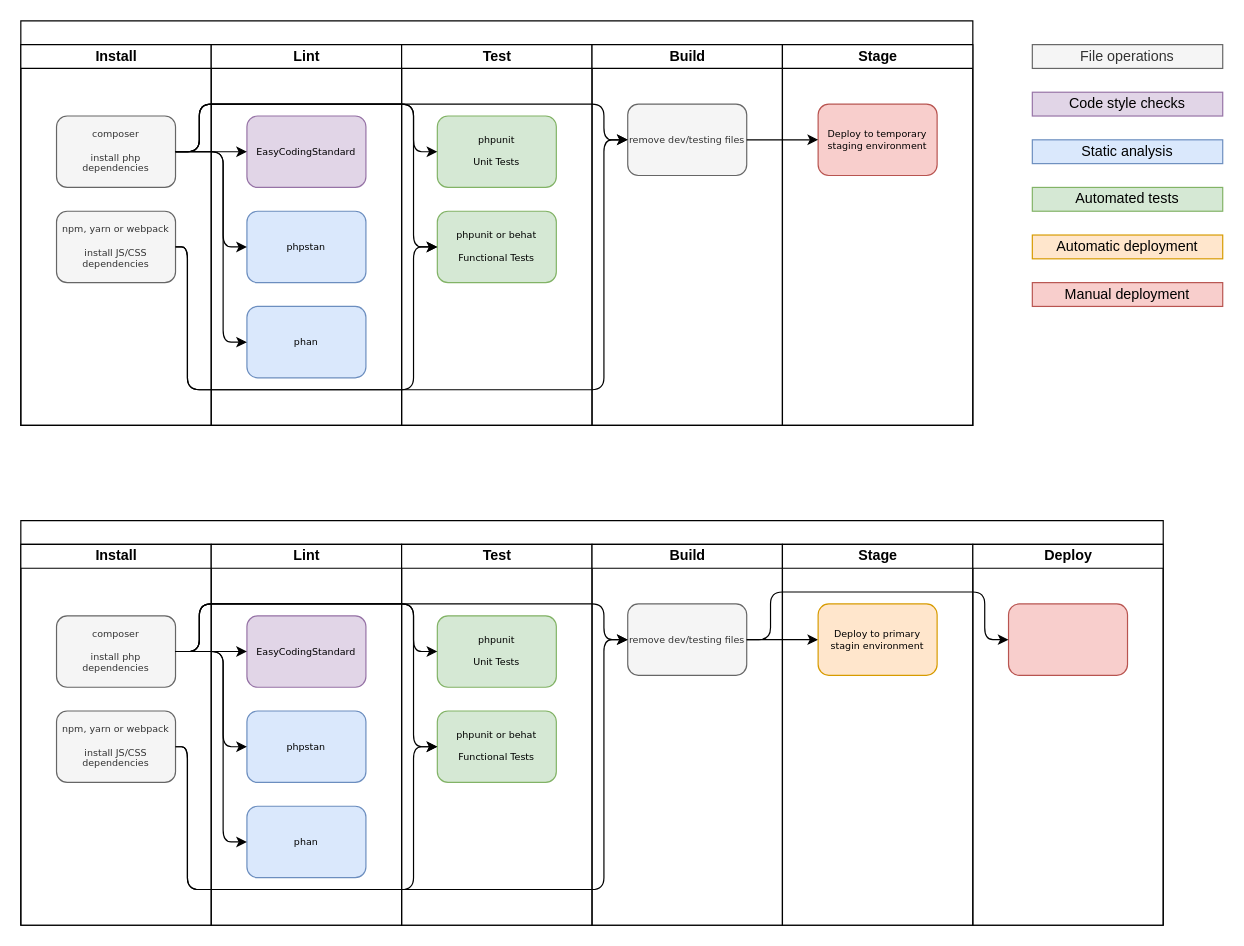
This 1244x946 diagram has some shape labels left out. The shapes that lost their labels are listed below. From the top down, each one's box as (x1, y1, x2, y2) in pixels, then its label:
(20, 20, 973, 425): On push to feature branch
(1007, 603, 1128, 675): Deploy to production
(20, 519, 1163, 925): On merge to master branch
